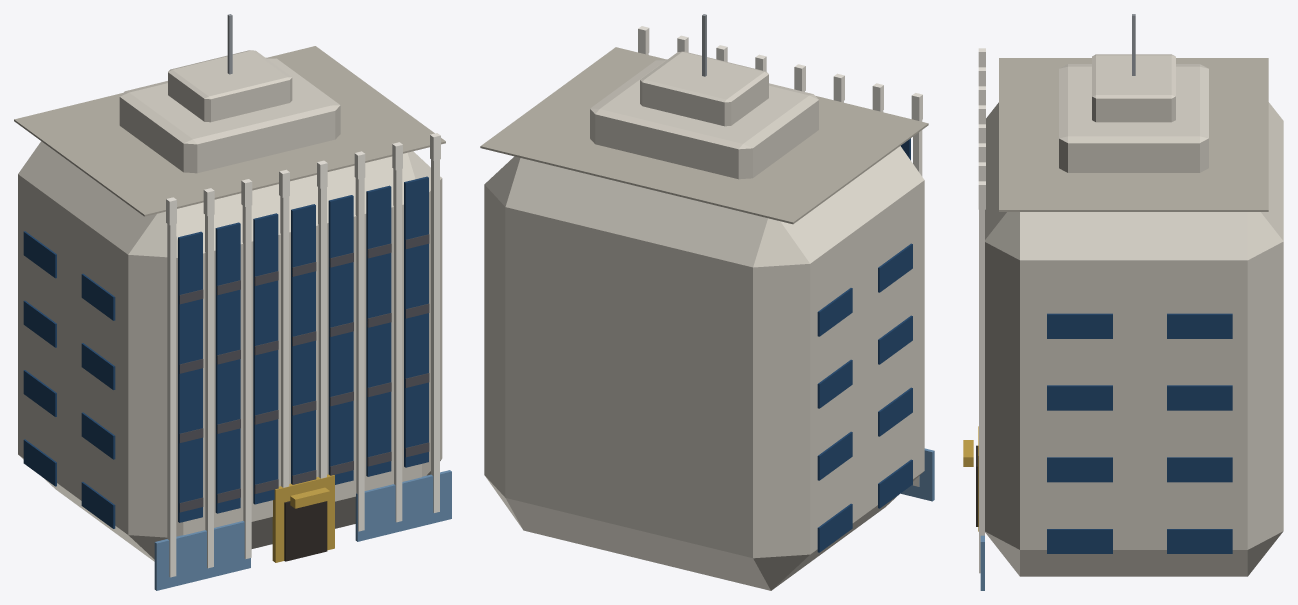
File: office_f5_grid_w18.glb
The picture shows the model from 3 angles, left to right: view 1: azimuth 30°, elevation 25°; view 2: azimuth 150°, elevation 25°; view 3: azimuth 270°, elevation 25°; orthographic projection. The views are drawn at different scales.
Parts seen in each view (by area): view 1: walls, roofslab, crown1, chan.001, chan.005, chan.002, chan.004, chan, chan.006, crown2, chan.003, gf2 (+20 smaller); view 2: walls, roofslab, crown1, crown2, sb.010, sb.014, sb.002, sb.006, sb.008, sb, sb.004, sb.012 (+1 smaller); view 3: walls, roofslab, crown1, crown2, pier.007, sb.005, sb.007, sb.009, sb.011, sb.013, sb.015, sb.001 (+1 smaller).
Boxes of the visible parts, bbox=[...] form: walls: bbox=[18, 141, 442, 561]; roofslab: bbox=[14, 46, 445, 216]; crown1: bbox=[119, 57, 340, 173]; chan.001: bbox=[215, 222, 240, 513]; chan.005: bbox=[366, 185, 391, 476]; chan.002: bbox=[253, 213, 278, 504]; chan.004: bbox=[328, 195, 353, 484]; chan: bbox=[178, 231, 202, 522]; chan.006: bbox=[404, 176, 428, 467]; crown2: bbox=[168, 50, 292, 122]; chan.003: bbox=[291, 204, 315, 483]; gf2: bbox=[355, 470, 451, 541]; walls: bbox=[484, 146, 924, 590]; roofslab: bbox=[480, 47, 928, 224]; crown1: bbox=[590, 59, 818, 179]; crown2: bbox=[640, 51, 768, 126]; sb.010: bbox=[817, 359, 852, 408]; sb.014: bbox=[817, 288, 852, 336]; sb.002: bbox=[817, 503, 852, 552]; sb.006: bbox=[817, 431, 852, 480]; sb.008: bbox=[878, 315, 912, 364]; sb: bbox=[878, 459, 912, 508]; sb.004: bbox=[878, 387, 912, 436]; sb.012: bbox=[878, 243, 912, 292]; walls: bbox=[985, 102, 1283, 576]; roofslab: bbox=[999, 58, 1268, 211]; crown1: bbox=[1059, 64, 1208, 172]; crown2: bbox=[1092, 54, 1175, 122]; pier.007: bbox=[979, 209, 984, 573]; sb.005: bbox=[1047, 457, 1112, 482]; sb.007: bbox=[1167, 457, 1232, 482]; sb.009: bbox=[1047, 385, 1112, 410]; sb.011: bbox=[1167, 385, 1232, 410]; sb.013: bbox=[1047, 313, 1112, 338]; sb.015: bbox=[1167, 313, 1232, 338]; sb.001: bbox=[1047, 529, 1112, 553].
Bounding box in the file's own units: 18.2 × 26.6 × 15.4.
